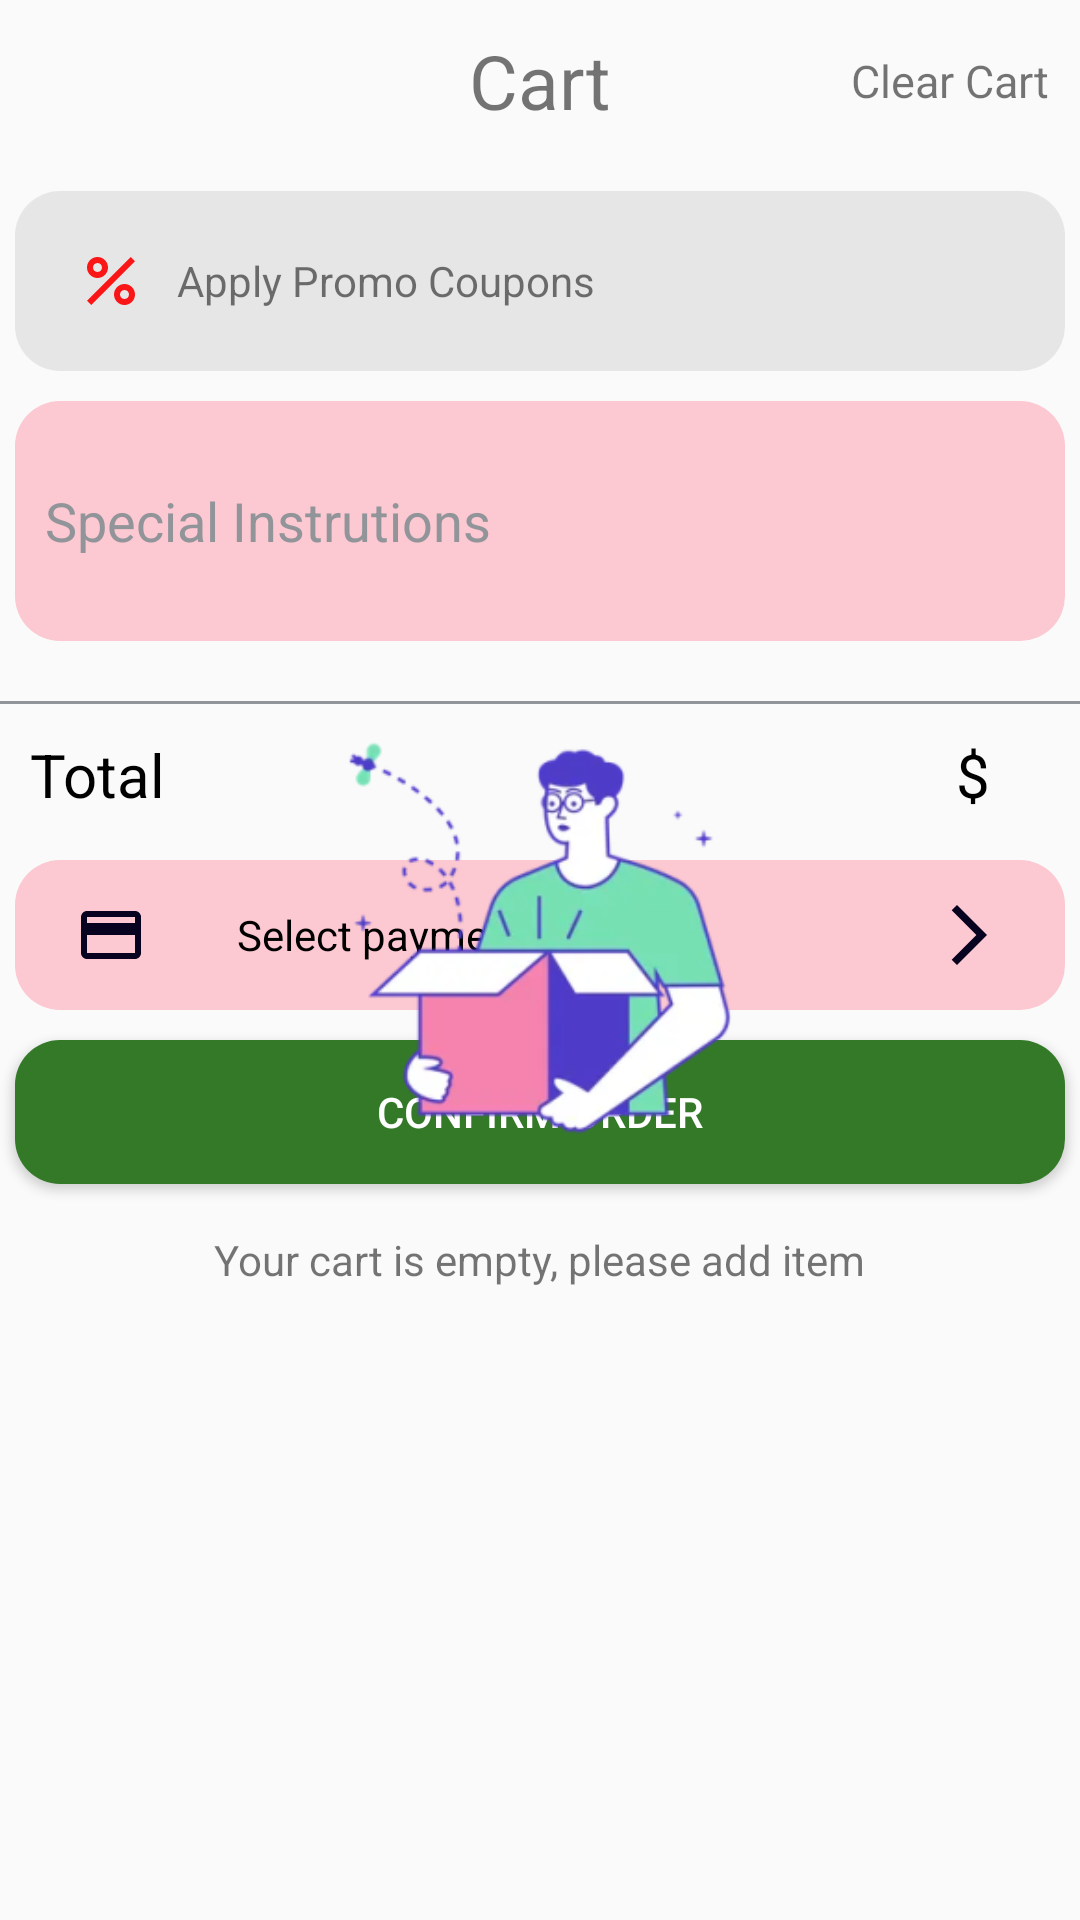

Icon bounding boxes for this 1080×1920 phone screenshot, format {"x1": x1, "y1": y1, "x2": x2, "y2": y2}:
arrow forward: {"x1": 952, "y1": 905, "x2": 987, "y2": 965}
percent: {"x1": 87, "y1": 257, "x2": 135, "y2": 305}
